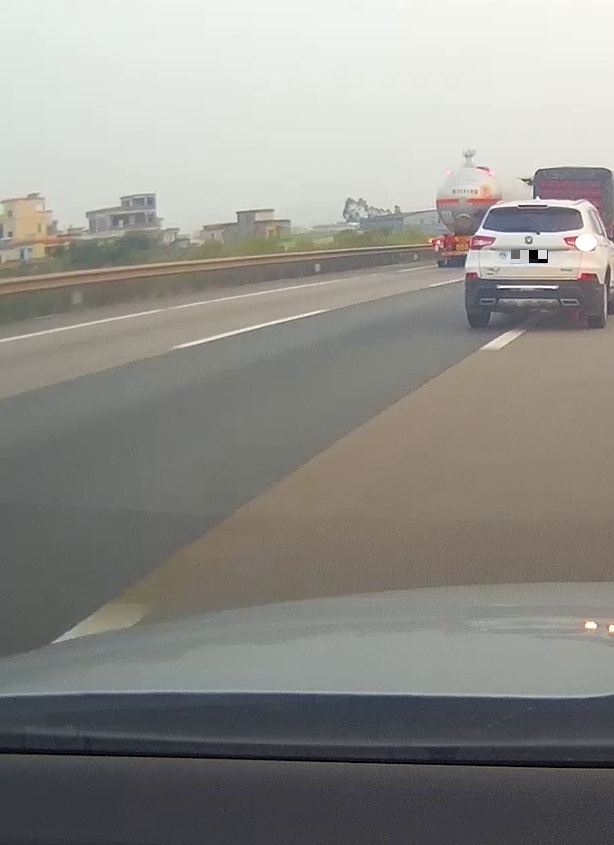L_light: (469, 236, 496, 250)
R_light: (563, 234, 598, 252)
T_light: (517, 204, 548, 209)
day-right: (464, 199, 600, 328)
plate_1: (511, 250, 548, 263)
